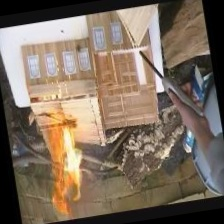fire: (35, 117, 96, 224)
